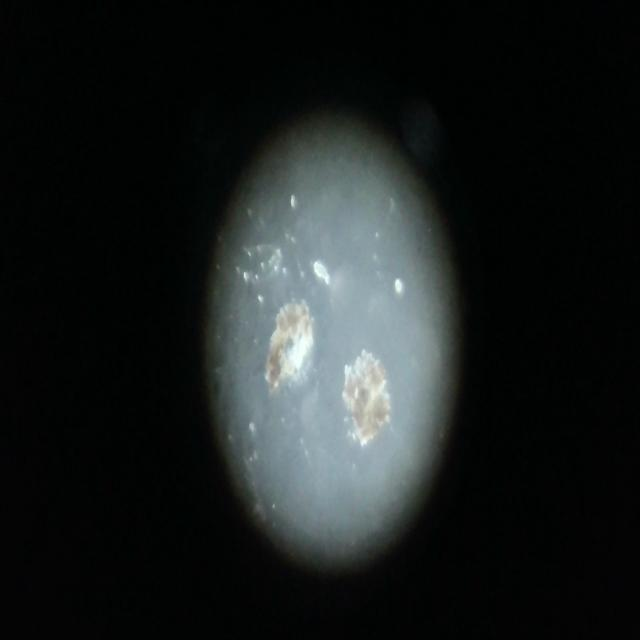alexandrium: (261, 278, 319, 407), (340, 348, 392, 444)
